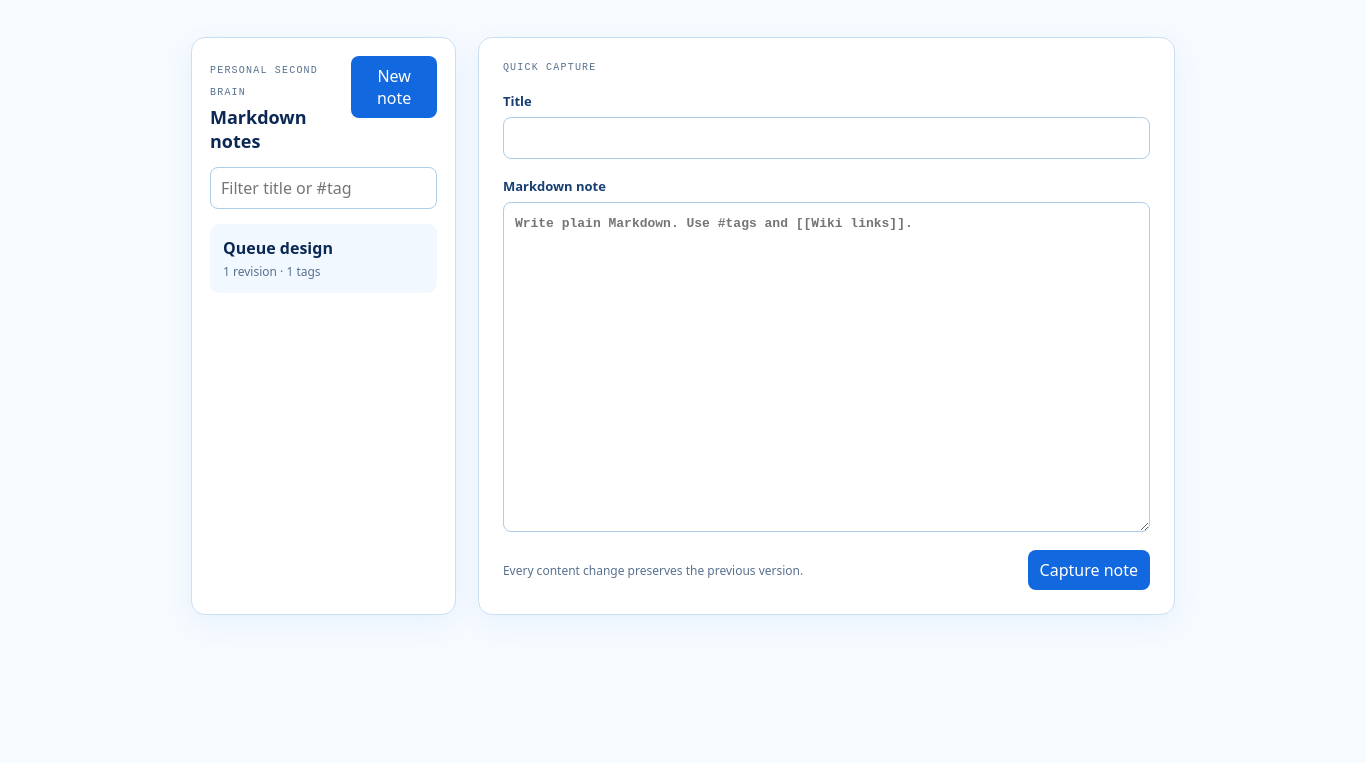
Test: NotesView › filters by tag and previews an immutable revision read-only
Type "#architecture" into the field named "Filter notes by title or tag" at (323, 188), box x1=210 y1=167 x2=437 y2=209
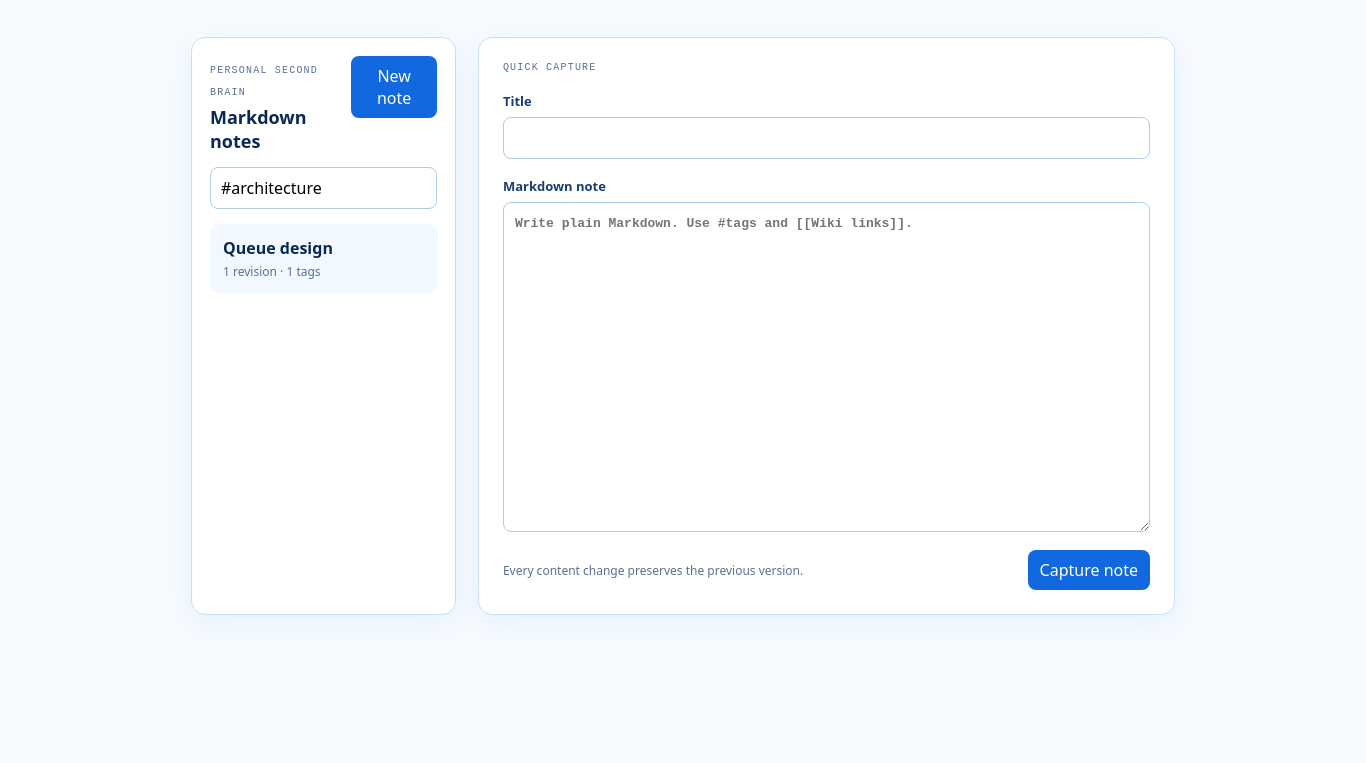
Click the button "Queue design 1 revision · 1 tags" at (323, 258), box x1=210 y1=224 x2=437 y2=293
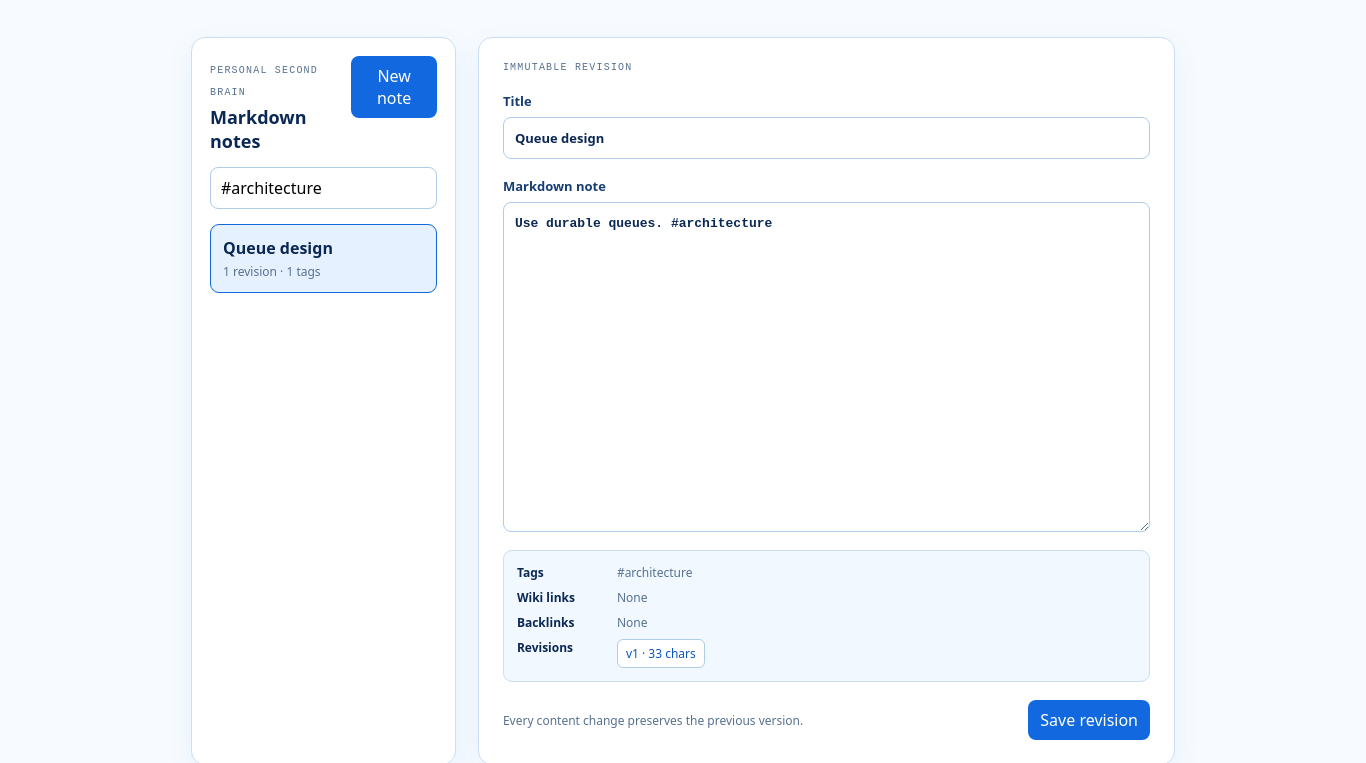
Click the button "v1 · 33 chars" at (661, 654), box x1=617 y1=639 x2=705 y2=668
(page scrolled)
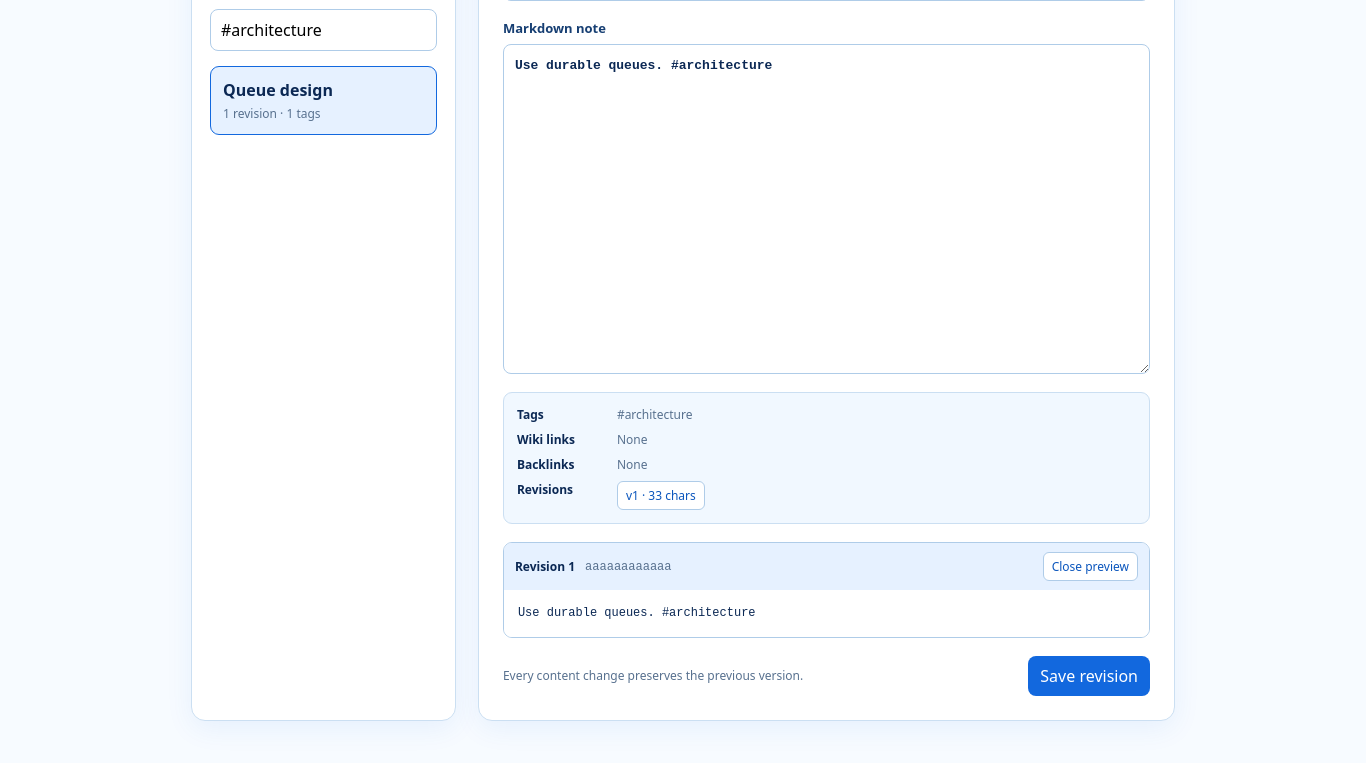
Expected: the element named "Immutable revision preview" shows "Use durable queues. #architecture", x1=518 y1=606 x2=756 y2=620
